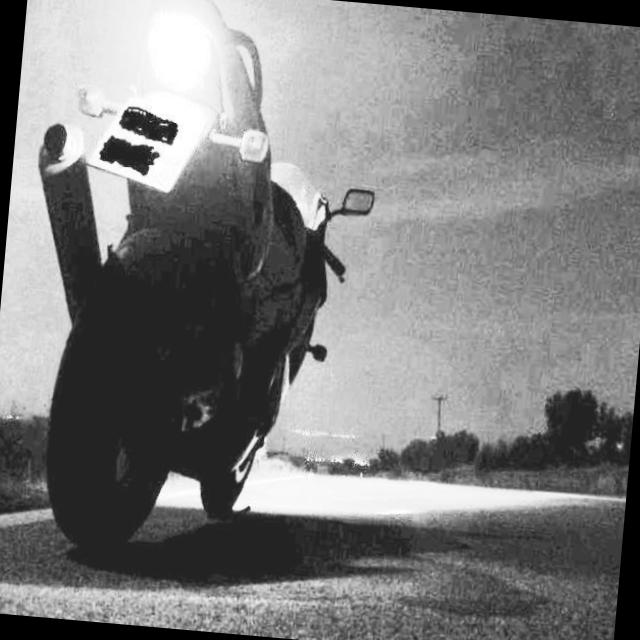Motorcycle: (8, 0, 415, 585)
